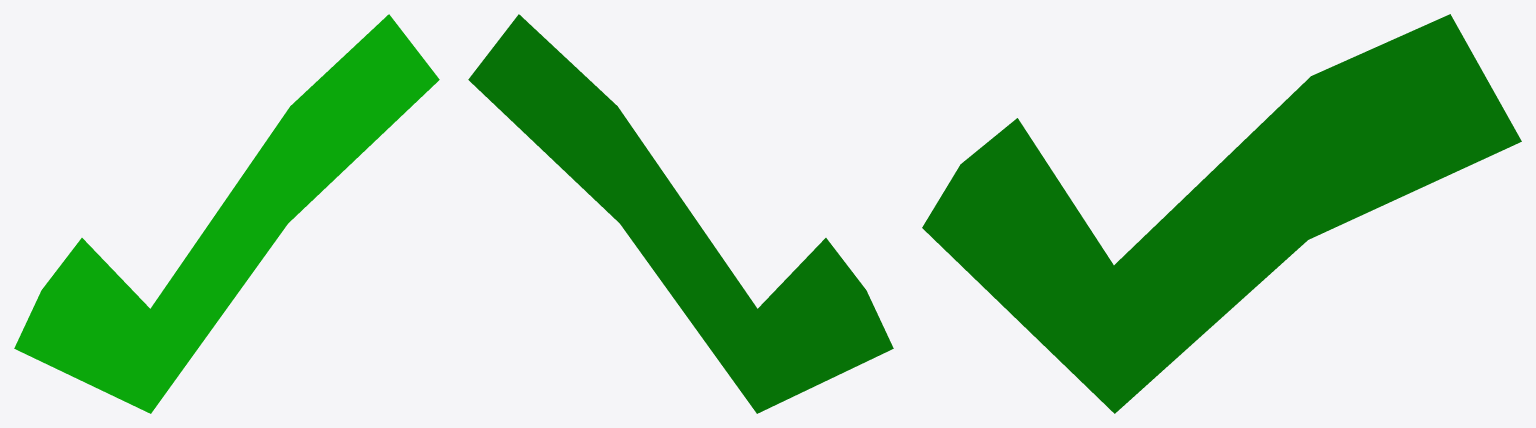
File: Palomita.fbx
3 views of the same model, side by side, from view 1: azimuth 30°, elevation 25°; view 2: azimuth 150°, elevation 25°; view 3: azimuth 330°, elevation 25° (orthographic). The views are drawn at different scales.
Visible parts, largest first — view 1: Good; view 2: Good; view 3: Good.
Part boxes in pixels (x1=…): Good: x1=14, y1=14, x2=439, y2=413; Good: x1=468, y1=14, x2=893, y2=413; Good: x1=922, y1=14, x2=1521, y2=413.
Size of the model in its own units: 6.47 by 4.97 by 0.
